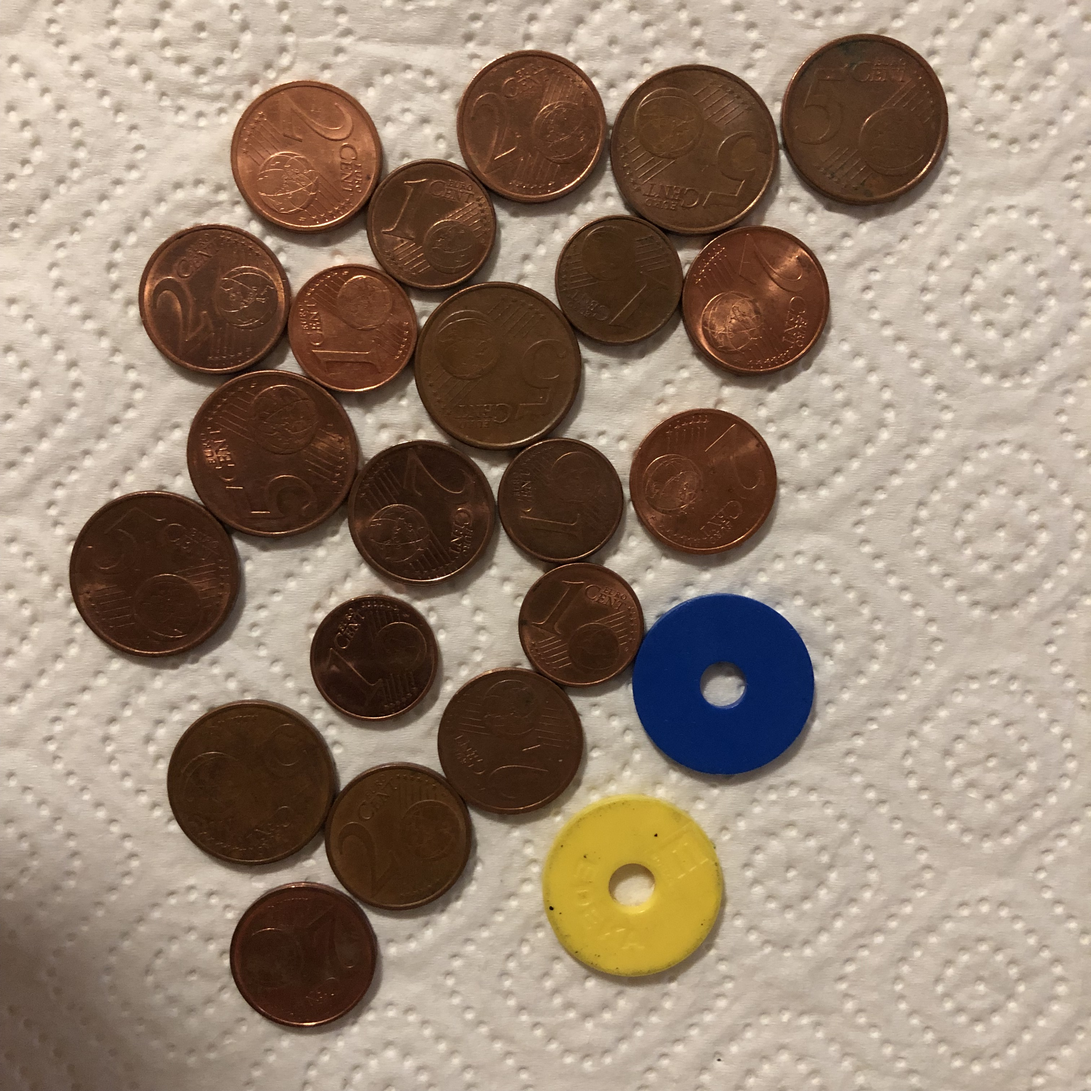1 cent: (286, 259, 420, 392), (493, 433, 627, 566), (367, 159, 500, 292), (551, 212, 684, 345), (514, 558, 647, 691), (306, 589, 439, 722)
2 cent: (225, 876, 379, 1034), (322, 759, 476, 917), (433, 663, 587, 821), (344, 432, 498, 590), (230, 77, 384, 235), (454, 48, 608, 206), (681, 224, 835, 381), (138, 221, 292, 378), (627, 403, 780, 561)
5 cent: (776, 32, 954, 206), (167, 692, 342, 867), (183, 364, 357, 539), (68, 490, 242, 664), (610, 61, 780, 236), (412, 279, 582, 454)
